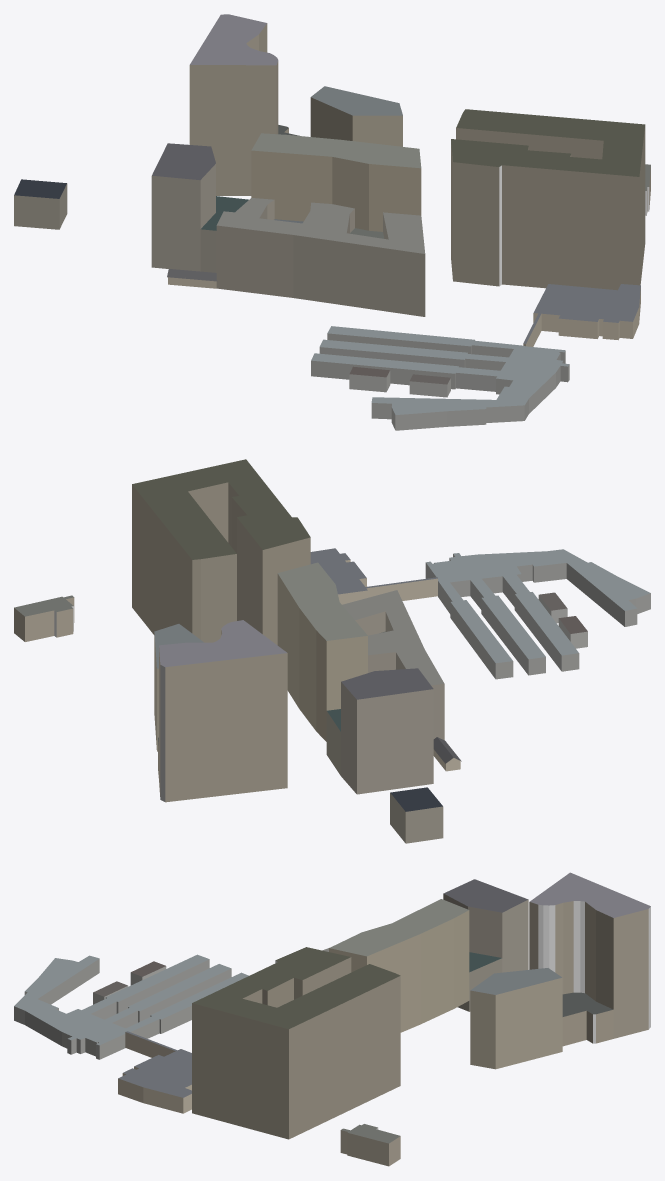
3 views of the same model, one above another, from view 1: azimuth 30°, elevation 25°; view 2: azimuth 150°, elevation 25°; view 3: azimuth 270°, elevation 25° (orthographic). The views are drawn at different scales.
Parts seen in each view (by area): view 1: tuile; view 2: tuile; view 3: tuile.
Part boxes in pixels (x1,y1,x2,y2): tuile: (14, 14, 650, 430); tuile: (14, 459, 650, 843); tuile: (14, 872, 650, 1166).
Size of the model in its own units: 234 by 61.16 by 266.
